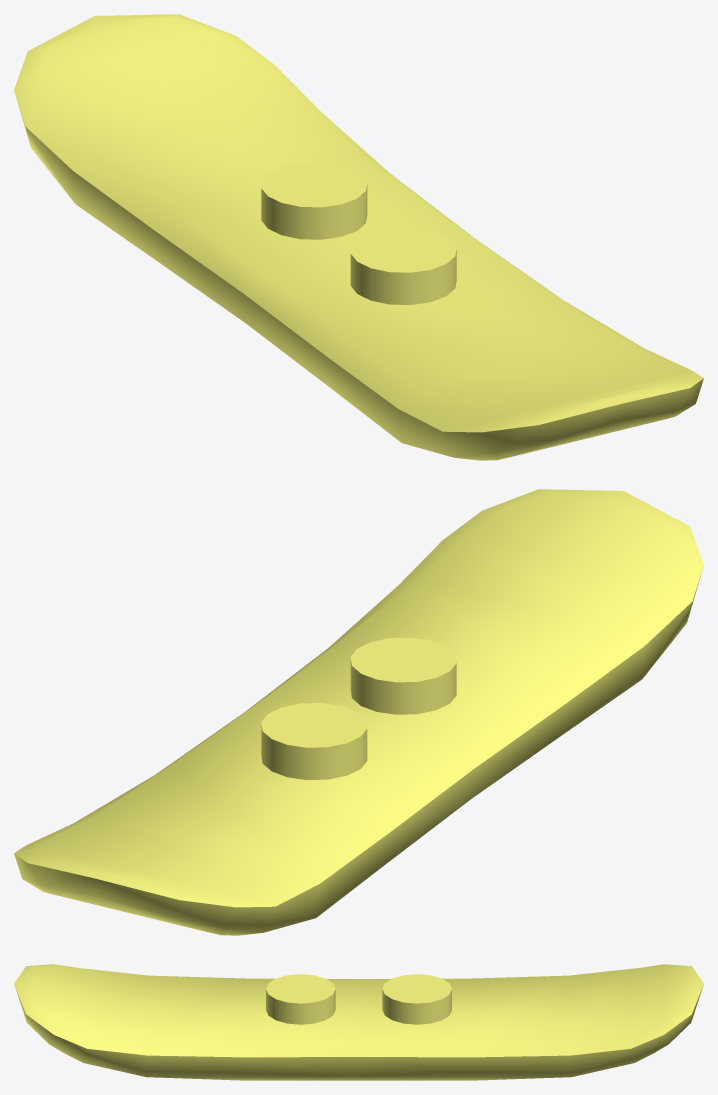
The picture shows the model from 3 angles, top to bottom: view 1: azimuth 30°, elevation 25°; view 2: azimuth 150°, elevation 25°; view 3: azimuth 270°, elevation 25°; orthographic projection. The views are drawn at different scales.
Parts seen in each view (by area): view 1: 18746.dat; view 2: 18746.dat; view 3: 18746.dat.
Boxes of the visible parts, left/top/right/bottom form: 18746.dat: left=14, top=14, right=703, bottom=460; 18746.dat: left=14, top=489, right=703, bottom=935; 18746.dat: left=14, top=964, right=703, bottom=1080.
Size of the model in its own units: 0.0129 by 0.00523 by 0.0474.
